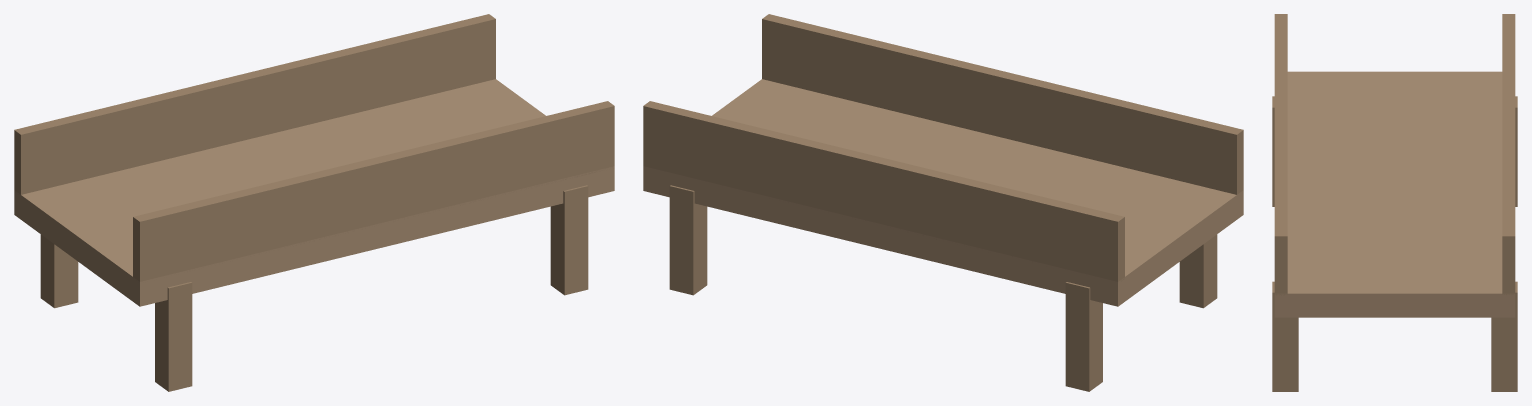
The model's file is bridge.glb.
3 renders of one model, left to right at view 1: azimuth 30°, elevation 25°; view 2: azimuth 150°, elevation 25°; view 3: azimuth 270°, elevation 25°, orthographic. The views are drawn at different scales.
Visible parts, largest first — view 1: bridge; view 2: bridge; view 3: bridge.
Boxes of the visible parts, box(x1,y1,x2,y2) form: bridge: box(14, 14, 614, 391); bridge: box(643, 14, 1243, 391); bridge: box(1272, 14, 1517, 391).
Size of the model in its own units: 2.4 by 0.85 by 1.12.
